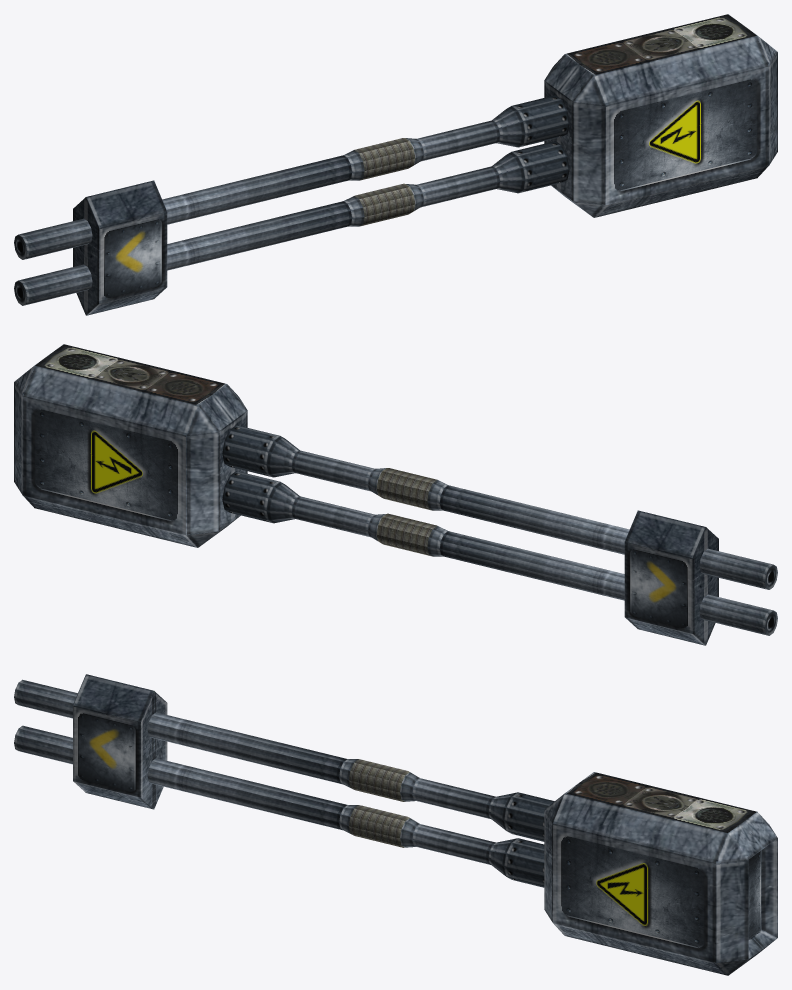
The model's file is KineticGun.FBX.
3 renders of one model, top to bottom at view 1: azimuth 30°, elevation 25°; view 2: azimuth 150°, elevation 25°; view 3: azimuth 330°, elevation 25°, orthographic.
Visible parts, largest first — view 1: KineticGun; view 2: KineticGun; view 3: KineticGun.
Part boxes in pixels (x1,y1,x2,y2): KineticGun: [14, 14, 777, 315]; KineticGun: [14, 344, 777, 645]; KineticGun: [14, 674, 777, 975].
Size of the model in its own units: 65.4 by 12 by 8.07.
